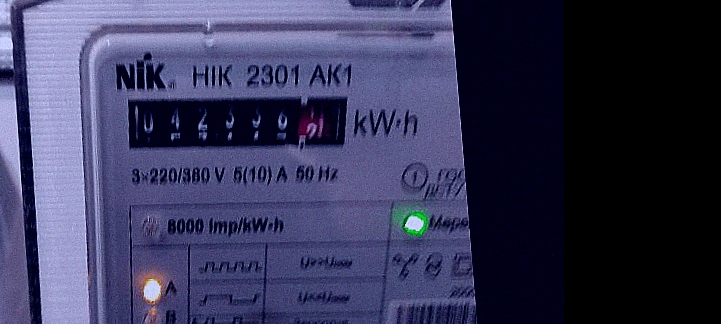0: (139, 106, 155, 135)
2: (191, 103, 211, 131)
3: (218, 101, 236, 131), (247, 100, 263, 129)
4: (165, 104, 183, 132)
6: (272, 103, 290, 132)
screen: (113, 72, 359, 172)
